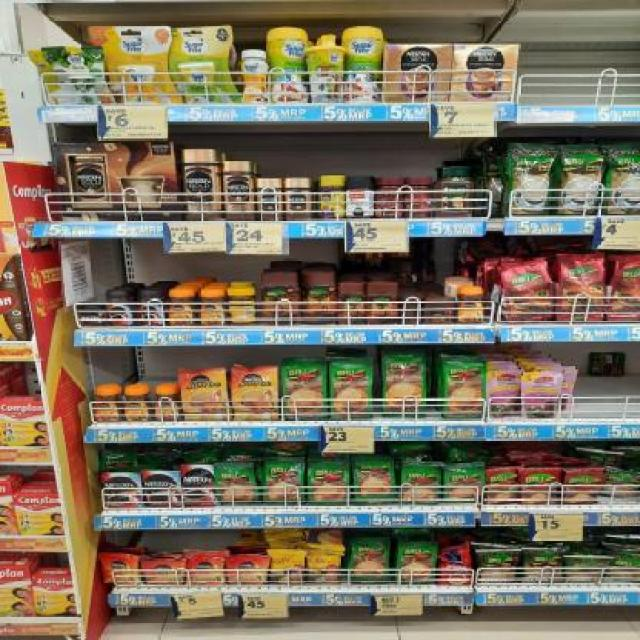Coffee: (181, 149, 219, 220), (181, 370, 227, 420), (234, 368, 278, 420), (223, 160, 252, 220), (181, 465, 214, 507), (102, 473, 140, 509), (142, 471, 178, 506), (284, 177, 311, 220), (198, 288, 227, 326), (228, 558, 267, 585), (137, 290, 166, 326), (107, 290, 136, 326), (457, 286, 485, 323), (103, 555, 137, 585), (257, 178, 281, 220), (167, 290, 195, 326), (145, 559, 184, 584), (188, 558, 224, 585), (122, 389, 150, 422), (153, 389, 180, 422), (93, 390, 121, 421), (79, 304, 106, 327)
